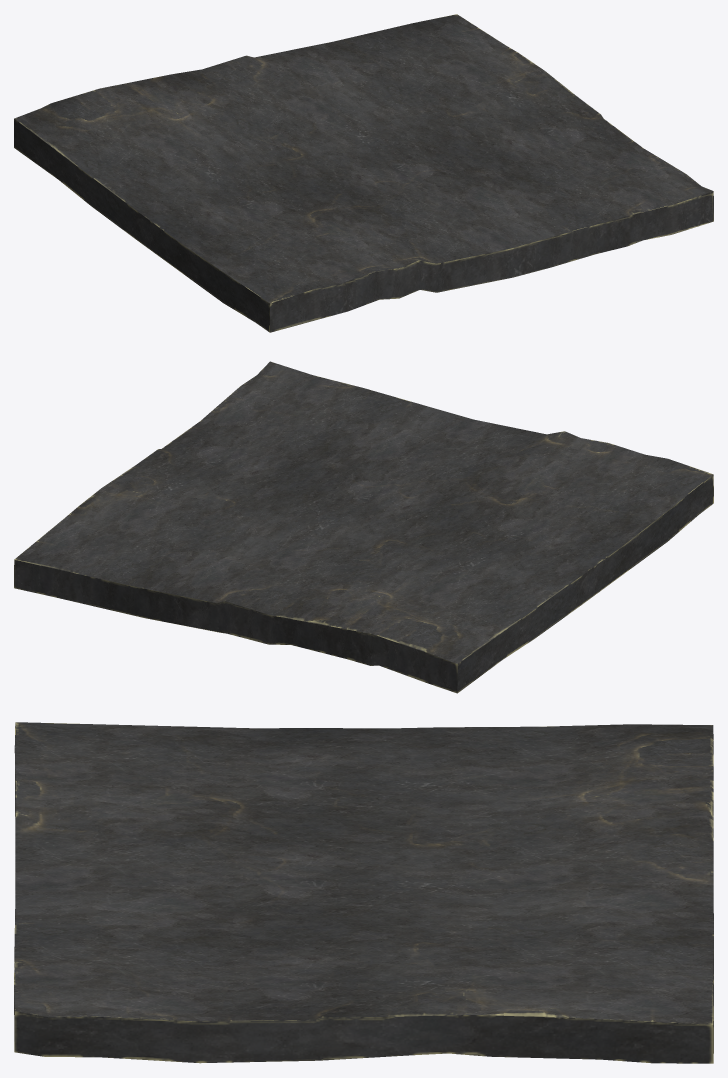
The model's file is SM_Floor.fbx.
3 views of the same model, one above another, from view 1: azimuth 30°, elevation 25°; view 2: azimuth 150°, elevation 25°; view 3: azimuth 270°, elevation 25° (orthographic). The views are drawn at different scales.
Parts seen in each view (by area): view 1: SM_Floor_LOD0; view 2: SM_Floor_LOD0; view 3: SM_Floor_LOD0.
Part boxes in pixels (x1,y1,x2,y2): SM_Floor_LOD0: [14, 14, 713, 332]; SM_Floor_LOD0: [14, 361, 713, 693]; SM_Floor_LOD0: [14, 722, 713, 1063].
Size of the model in its own units: 1200 by 1200 by 107.
Materials: 1 (1 with a texture image).
